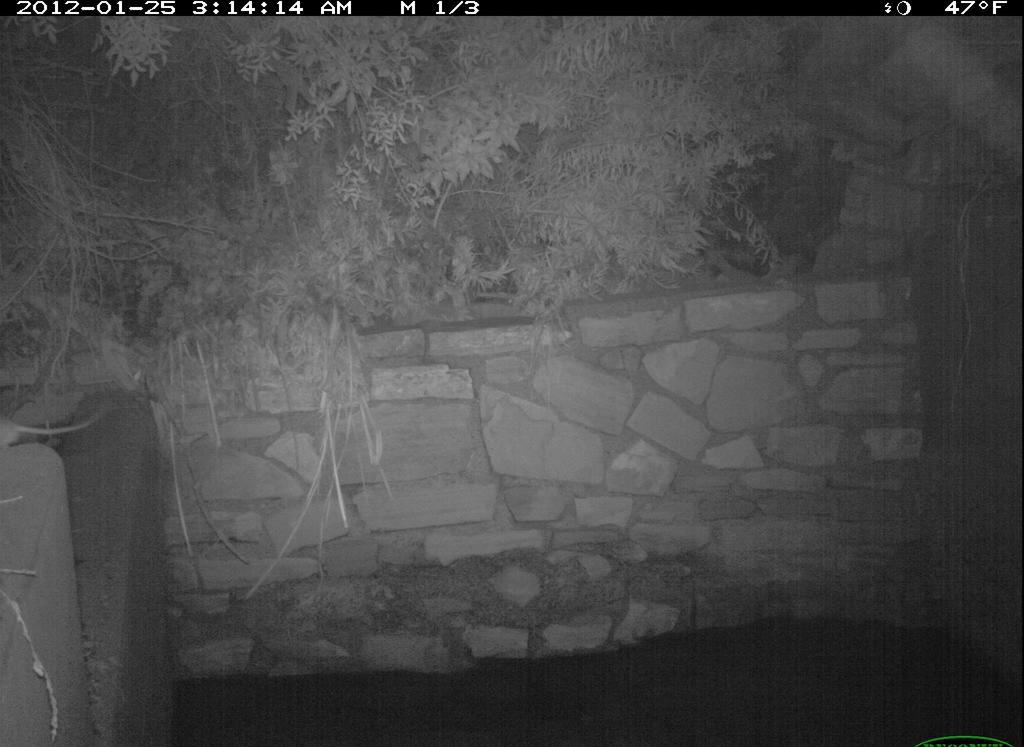rodent: (2, 388, 108, 464)
